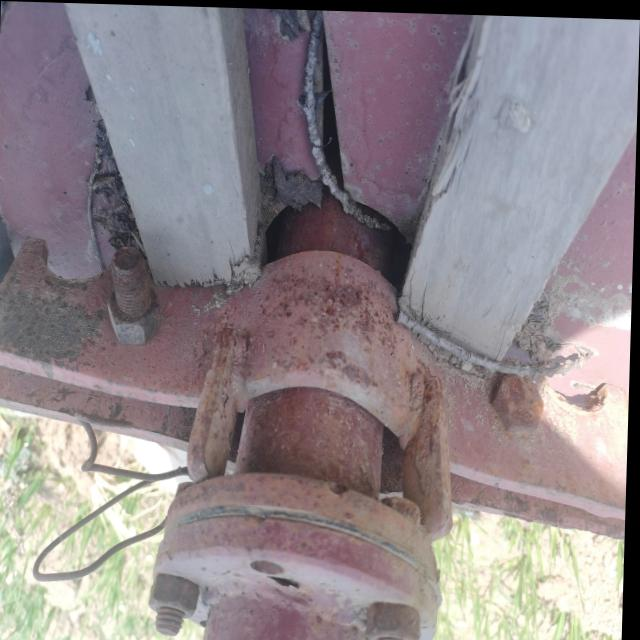Rusty bolt: (108, 250, 164, 347), (493, 368, 548, 434), (152, 570, 201, 633), (368, 599, 425, 640)
